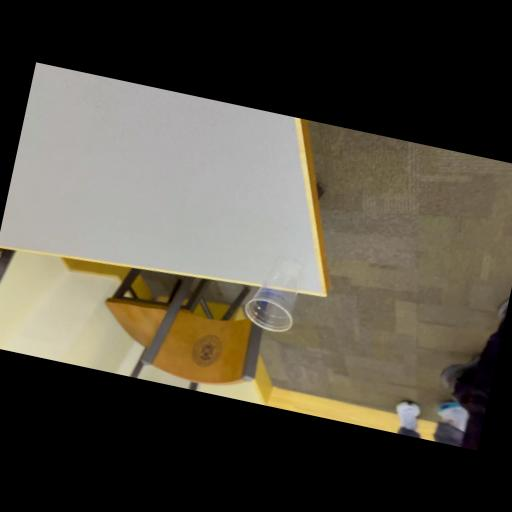lp_plastic_cup: (234, 246, 318, 342)
